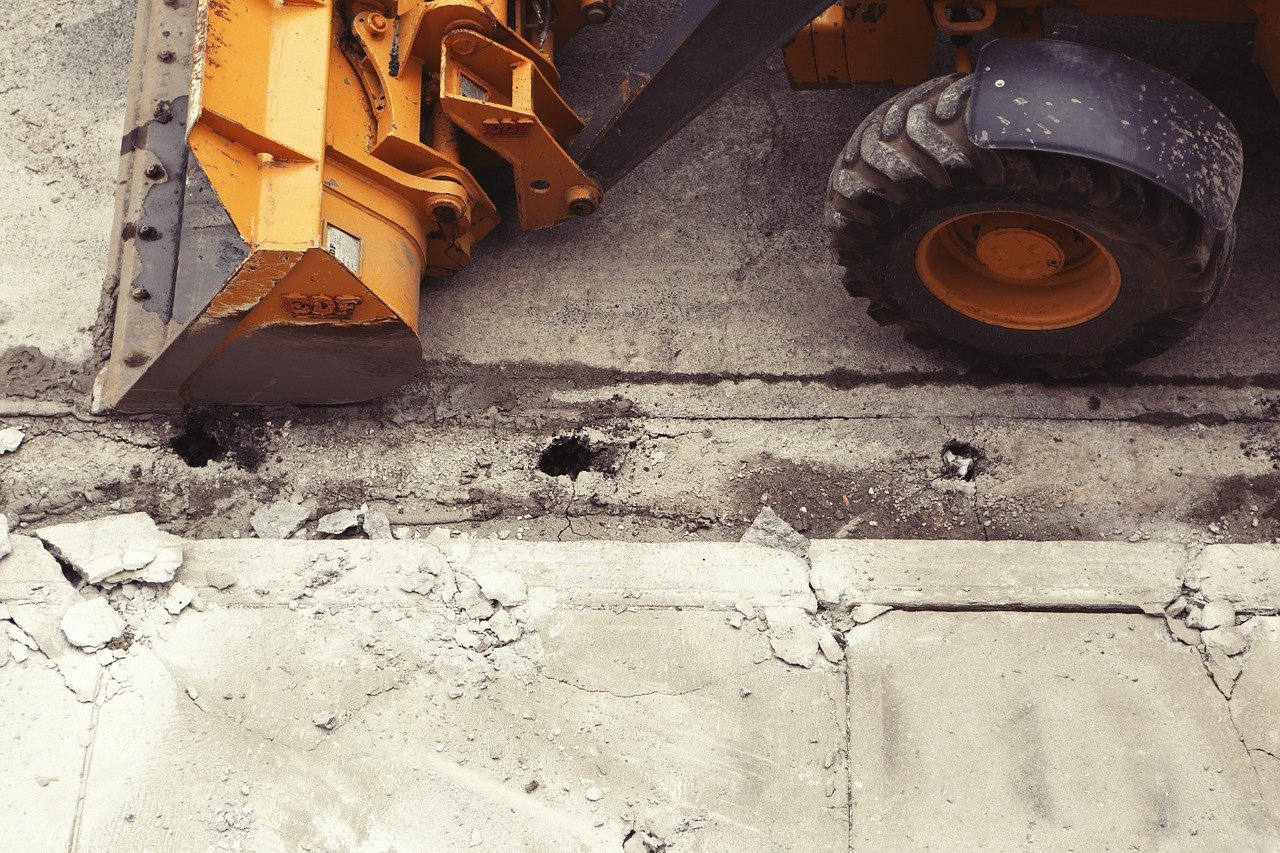bulldozer: (86, 5, 1270, 463)
